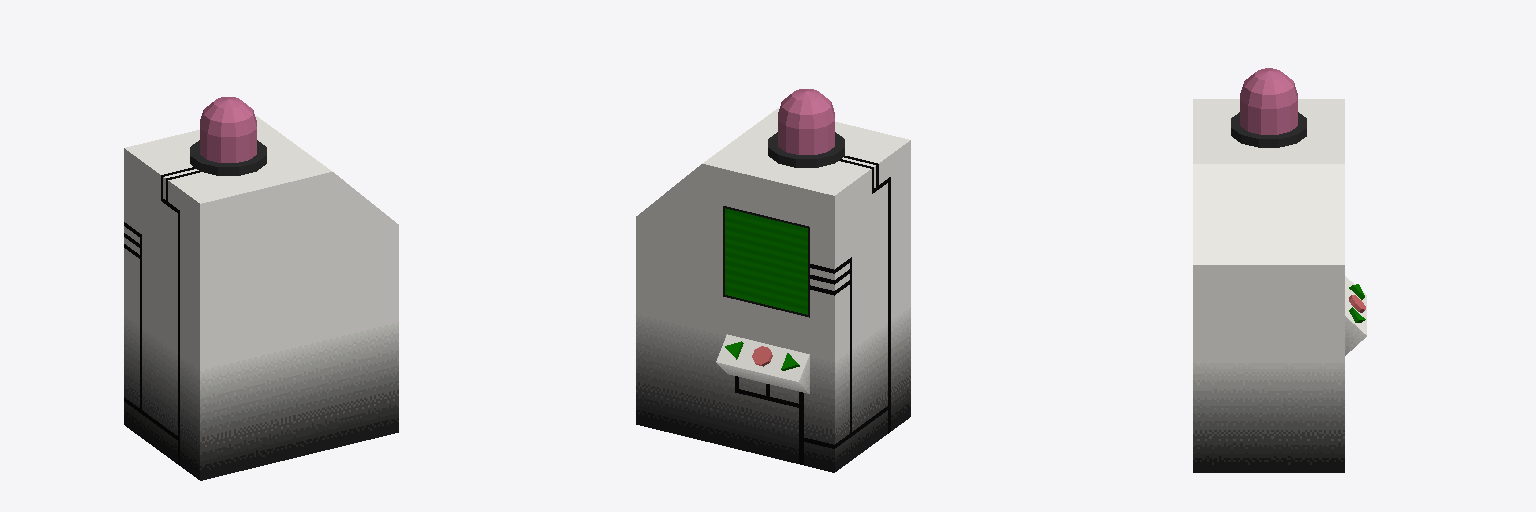
3 views of the same model, side by side, from view 1: azimuth 30°, elevation 25°; view 2: azimuth 150°, elevation 25°; view 3: azimuth 270°, elevation 25° (orthographic).
Visible parts, largest first — view 1: machine, alarm, alarm_base; view 2: machine, alarm, controls, alarm_base; view 3: machine, alarm, alarm_base, controls.
Part boxes in pixels (x1,y1,x2,y2): machine: (124,116,398,480); alarm: (200,97,256,162); alarm_base: (190,140,266,175); machine: (636,108,910,472); alarm: (778,89,834,154); controls: (716,334,809,393); alarm_base: (768,132,844,167); machine: (1193,99,1344,472); alarm: (1240,68,1297,134); alarm_base: (1231,112,1306,147); controls: (1345,276,1366,355).
Bounding box in the file's own units: 1.5 × 2.44 × 1.14.
Materials: 2 (2 with a texture image).